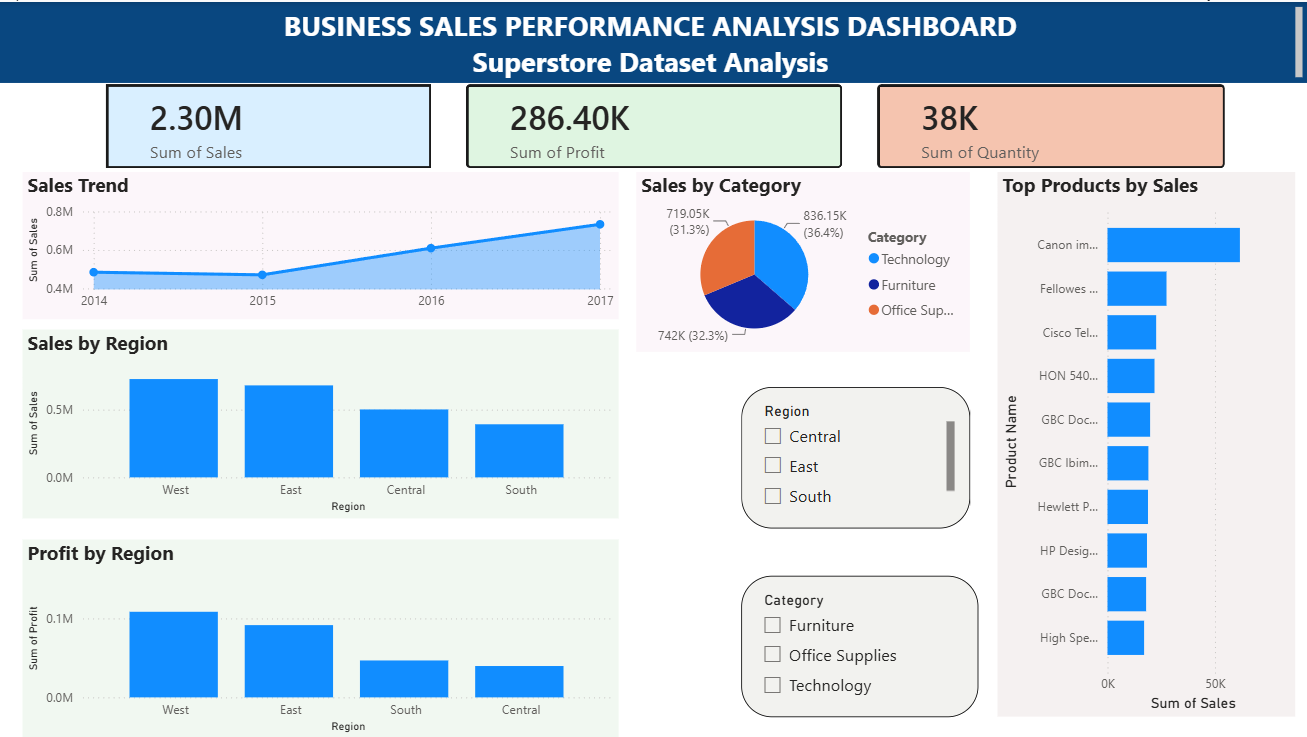

This screenshot's page, from the dashboard's own definition file:
{"tool":"powerbi","page":{"name":"Page 1","canvas":[1280,720],"ordinal":0},"visuals":[{"type":"cardVisual","fields":{"Data":["Sum(Sample - Superstore.Sales)"]},"box":[86.4,63.1,352.7,116.6],"z":0},{"type":"cardVisual","fields":{"Data":["Sum(Sample - Superstore.Profit)"]},"box":[439.1,63.1,402.1,116.6],"z":1000},{"type":"cardVisual","fields":{"Data":["Sum(Sample - Superstore.Quantity)"]},"box":[841.2,63.1,374.6,116.6],"z":2000},{"type":"lineChart","title":"Sales Trend","fields":{"Category":["Sample - Superstore.Order Date.Variation.Date Hierarchy.Year","Sample - Superstore.Order Date.Variation.Date Hierarchy.Quarter","Sample - Superstore.Order Date.Variation.Date Hierarchy.Month","Sample - Superstore.Order Date.Variation.Date Hierarchy.Day"],"Y":["Sum(Sample - Superstore.Sales)"]},"box":[22,166,583.2,144.1],"z":3000},{"type":"clusteredBarChart","title":"Top Products by Sales","fields":{"Category":["Sample - Superstore.Product Name"],"Y":["Sum(Sample - Superstore.Sales)"]},"box":[975.8,166.3,291,533.2],"z":4000},{"type":"pieChart","title":"Sales by Category","fields":{"Category":["Sample - Superstore.Category"],"Y":["Sum(Sample - Superstore.Sales)"]},"box":[622.4,166.3,326.5,176.1],"z":5000},{"type":"clusteredColumnChart","title":"Sales by Region","fields":{"Category":["Sample - Superstore.Region"],"Y":["Sum(Sample - Superstore.Sales)"]},"box":[22,320.4,583.3,184.6],"z":6000},{"type":"clusteredColumnChart","title":"Profit by Region","fields":{"Category":["Sample - Superstore.Region"],"Y":["Sum(Sample - Superstore.Profit)"]},"box":[22,525.8,583.3,194.4],"z":7000},{"type":"slicer","fields":{"Values":["Sample - Superstore.Region"]},"box":[725.1,376.6,223.8,138.2],"z":8000},{"type":"slicer","fields":{"Values":["Sample - Superstore.Category"]},"box":[725.1,561.3,232.3,138.2],"z":9000},{"type":"textbox","box":[0,0,1280.3,79.6],"z":11000}]}

Visuals, with their boxes in screenshot pixels (x1, y1, x2, y2), scaled from the page's 1280x720 canvas onto the 1307x737 screenshot:
cardVisual - Sum(Sample - Superstore.Sales): [88,65,448,184]
cardVisual - Sum(Sample - Superstore.Profit): [448,65,859,184]
cardVisual - Sum(Sample - Superstore.Quantity): [859,65,1241,184]
"Sales Trend" lineChart: [22,170,618,317]
"Top Products by Sales" clusteredBarChart: [996,170,1294,716]
"Sales by Category" pieChart: [636,170,969,350]
"Sales by Region" clusteredColumnChart: [22,328,618,517]
"Profit by Region" clusteredColumnChart: [22,538,618,736]
slicer - Sample - Superstore.Region: [740,385,969,527]
slicer - Sample - Superstore.Category: [740,575,978,716]
textbox: [0,0,1306,81]
